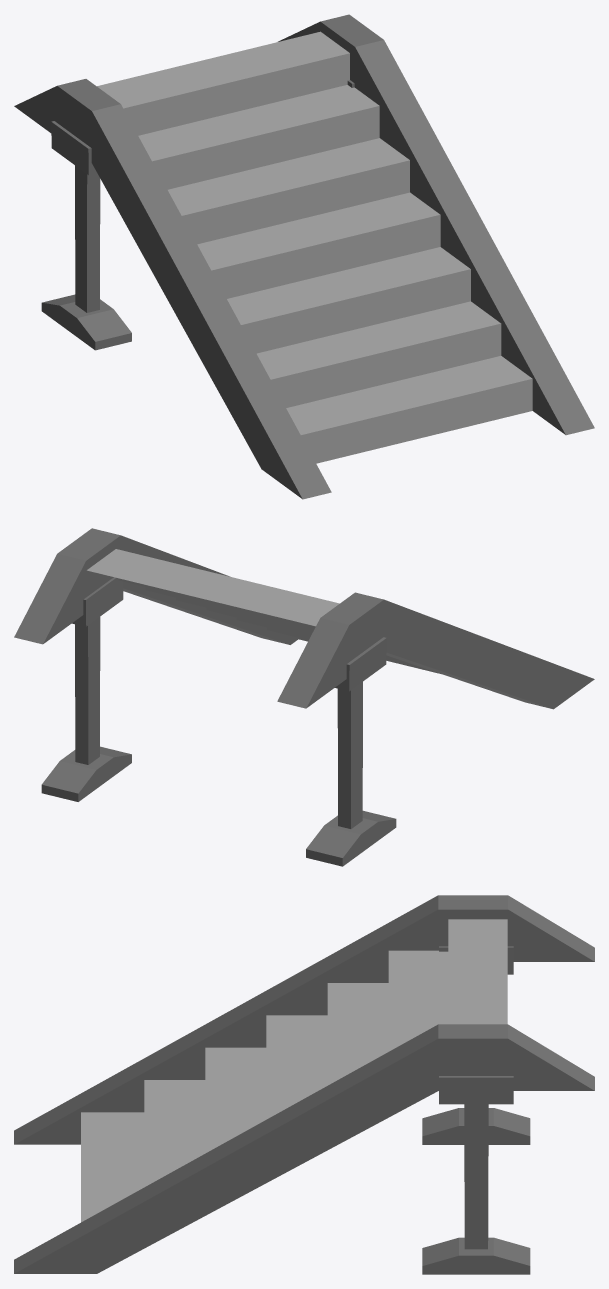
File: Stairs.glb
3 renders of one model, top to bottom at view 1: azimuth 30°, elevation 25°; view 2: azimuth 150°, elevation 25°; view 3: azimuth 270°, elevation 25°, orthographic.
Visible parts, largest first — view 1: Stairs; view 2: Stairs; view 3: Stairs.
Boxes of the visible parts, x1,y1,x2,y2 form: Stairs: [14, 14, 594, 499]; Stairs: [14, 528, 594, 866]; Stairs: [14, 895, 594, 1274].
Bounding box in the file's own units: 1.87 × 1.39 × 3.11.
Materials: 1 (1 with a texture image).
